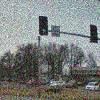traffic lights: (88, 24, 99, 44), (40, 15, 48, 38)
